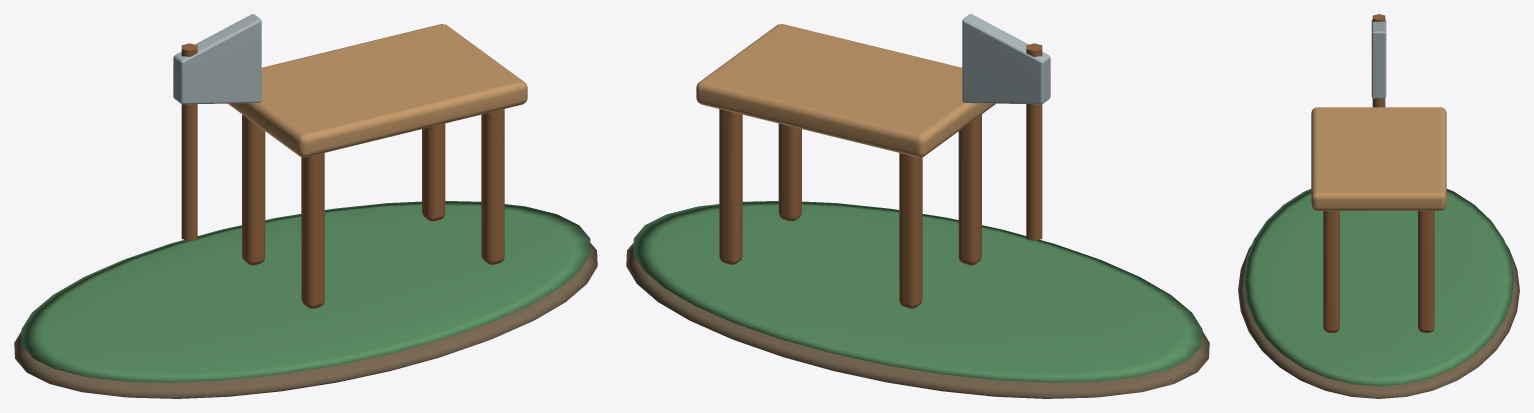
File: making-work.glb
The picture shows the model from 3 angles, left to right: view 1: azimuth 30°, elevation 25°; view 2: azimuth 150°, elevation 25°; view 3: azimuth 270°, elevation 25°; orthographic projection. The views are drawn at different scales.
Visible parts, largest first — view 1: making-work_surface_01, making-work_surface_04, making-work_surface_02, making-work_surface_00, making-work_surface_03; view 2: making-work_surface_01, making-work_surface_04, making-work_surface_02, making-work_surface_00, making-work_surface_03; view 3: making-work_surface_01, making-work_surface_04, making-work_surface_00, making-work_surface_02, making-work_surface_03.
Boxes of the visible parts, box(x1,y1,x2,y2) form: making-work_surface_01: box(21, 201, 590, 382); making-work_surface_04: box(228, 24, 527, 157); making-work_surface_02: box(181, 43, 504, 308); making-work_surface_00: box(14, 243, 597, 398); making-work_surface_03: box(173, 14, 261, 104); making-work_surface_01: box(633, 201, 1202, 382); making-work_surface_04: box(696, 24, 995, 157); making-work_surface_02: box(719, 43, 1042, 308); making-work_surface_00: box(626, 243, 1209, 398); making-work_surface_03: box(962, 14, 1050, 104); making-work_surface_01: box(1243, 189, 1514, 386); making-work_surface_04: box(1311, 107, 1446, 210); making-work_surface_00: box(1238, 244, 1519, 398); making-work_surface_02: box(1323, 14, 1434, 332); making-work_surface_03: box(1371, 20, 1386, 98).
Bounding box in the file's own units: 4.56 × 2.47 × 2.5.
